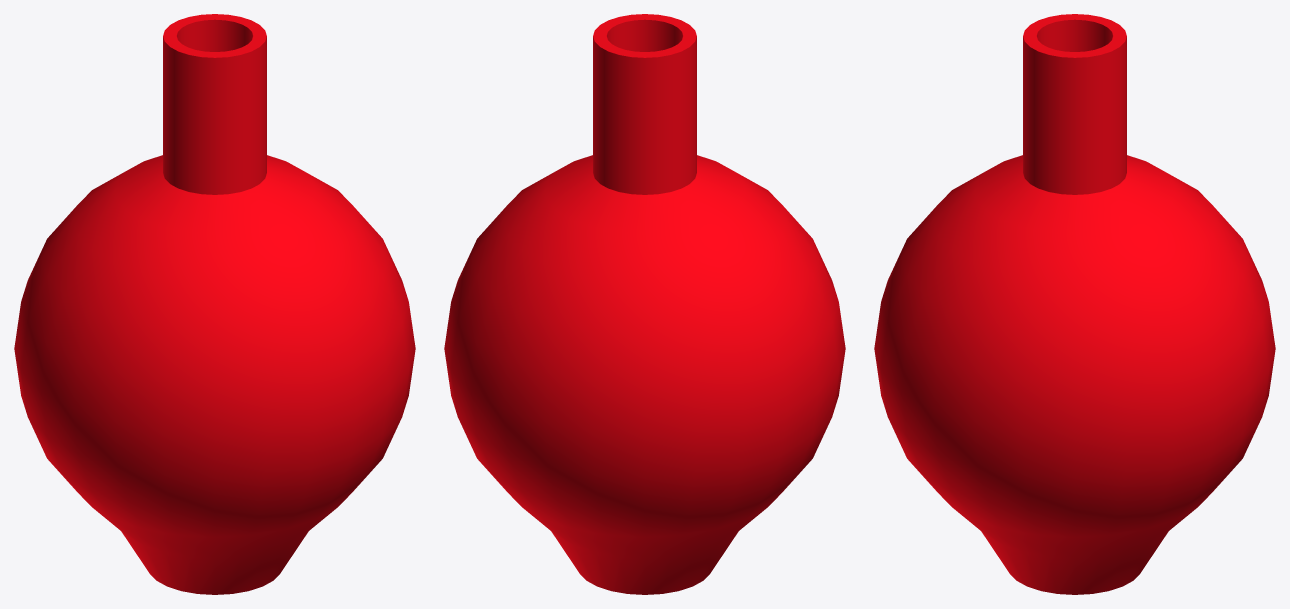
The model's file is weapon.glb.
3 renders of one model, left to right at view 1: azimuth 30°, elevation 25°; view 2: azimuth 150°, elevation 25°; view 3: azimuth 270°, elevation 25°, orthographic.
Visible parts, largest first — view 1: weapon; view 2: weapon; view 3: weapon.
Part boxes in pixels (x1=…): weapon: x1=14, y1=14, x2=415, y2=594; weapon: x1=444, y1=14, x2=845, y2=594; weapon: x1=874, y1=14, x2=1275, y2=594.
Bounding box in the file's own units: 0.5556 × 0.8104 × 0.5556.
1 material, 1 textured.
